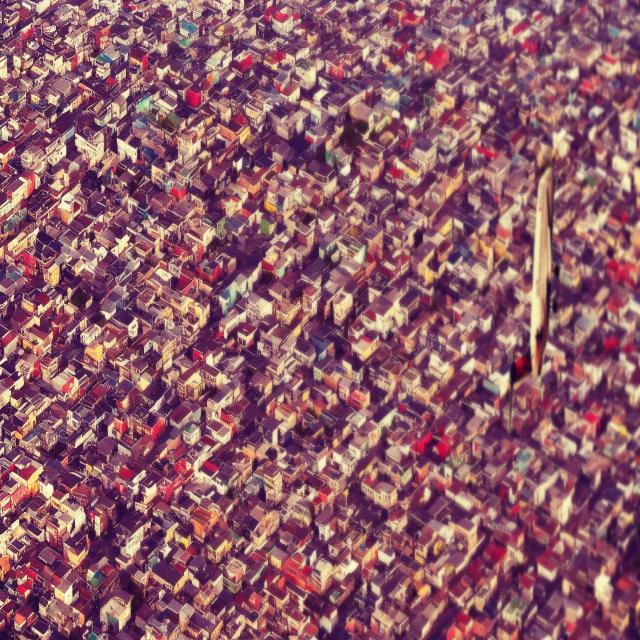airplane: (508, 163, 557, 429)
